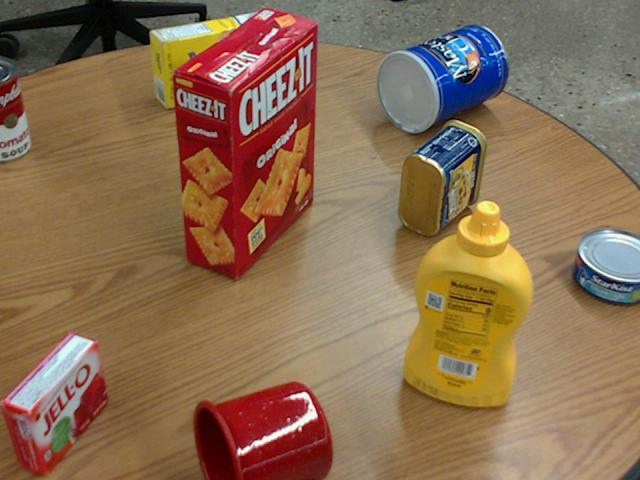cracker_box: (171, 8, 318, 278)
gelatin_box: (0, 332, 104, 474)
master_chef_can: (375, 24, 506, 131)
mug: (189, 382, 331, 479)
mustard_bottle: (402, 200, 531, 405)
potted_meat_can: (398, 119, 485, 235)
sugar_box: (149, 7, 287, 106)
tomato_soup_can: (0, 55, 29, 161)
tuna_fish_can: (570, 227, 639, 304)
